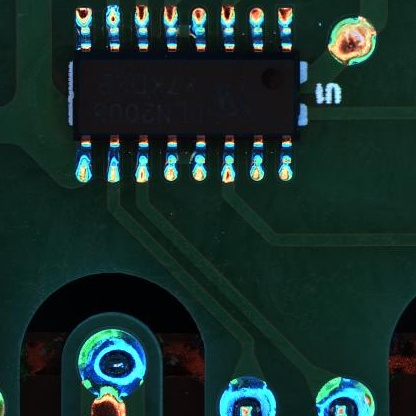spot: (77, 331, 147, 396), (315, 376, 377, 416), (217, 378, 275, 416)
